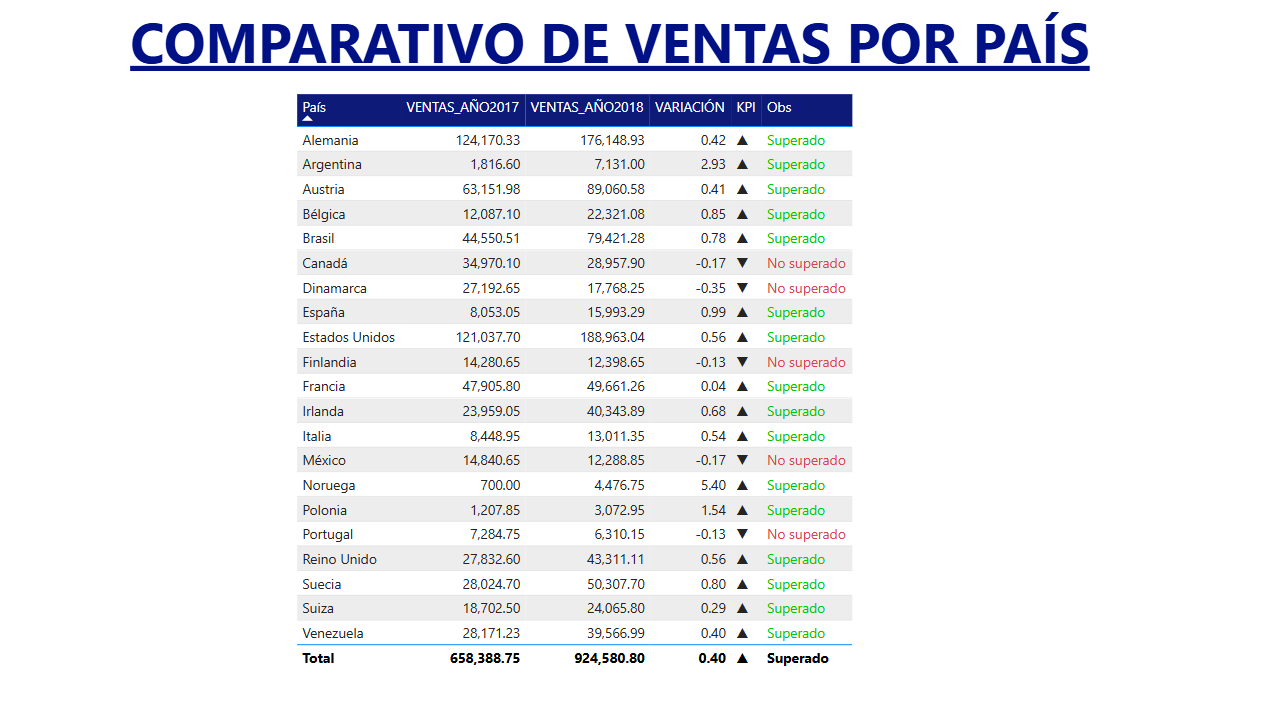

Layout of this report page (visuals, bound fields, positions):
{"tool":"powerbi","page":{"name":"RESUMEN 2","canvas":[1280,720],"ordinal":3},"visuals":[{"type":"textbox","box":[144.9,12.6,989.2,88.5],"z":0},{"type":"tableEx","fields":{"Values":["Northwind Ubicaciones.País","RESUMEN2.VENTAS_AÑO2017","RESUMEN2.VENTAS_AÑO2018","RESUMEN2.VARIACIÓN","RESUMEN2.KPI","RESUMEN2.Obs"]},"box":[306.4,101.2,667.2,587.5],"z":1000}]}

Visuals, with their boxes in screenshot pixels (x1, y1, x2, y2), scaled from the page's 1280x720 canvas onto the 1281x707 screenshot:
textbox: [x1=145, y1=12, x2=1135, y2=99]
tableEx - Northwind Ubicaciones.País x RESUMEN2.VENTAS_AÑO2017: [x1=307, y1=99, x2=974, y2=676]
